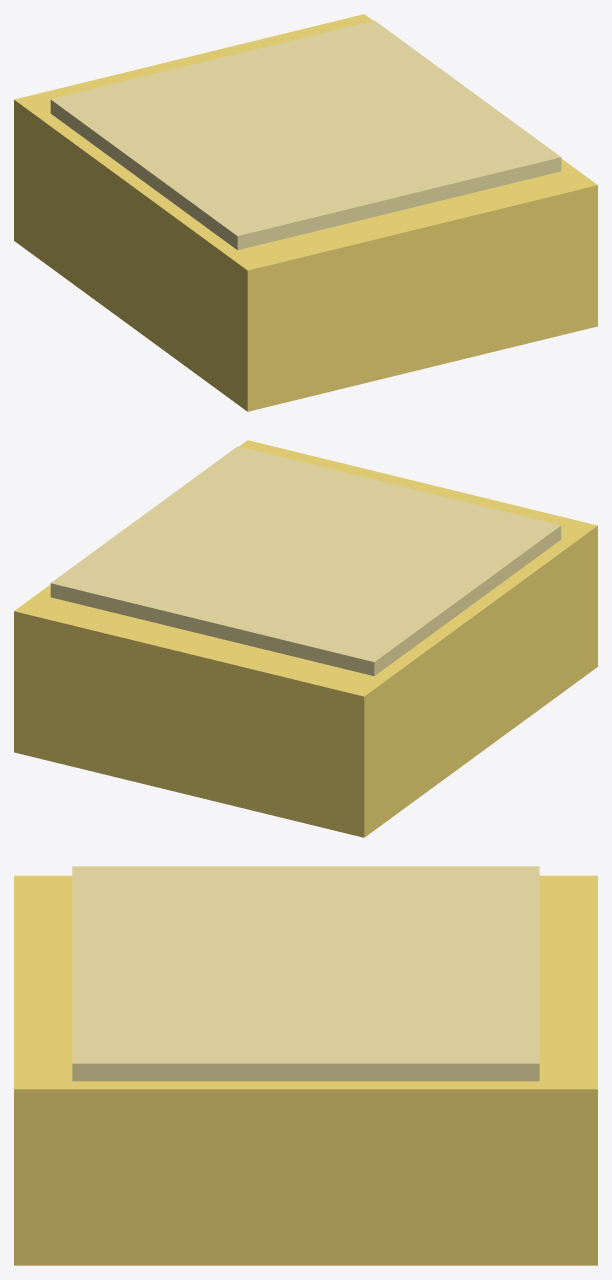
The model's file is Prop_Pet_AMF_Bowl_V8.glb.
3 renders of one model, top to bottom at view 1: azimuth 30°, elevation 25°; view 2: azimuth 150°, elevation 25°; view 3: azimuth 270°, elevation 25°, orthographic. The views are drawn at different scales.
Visible parts, largest first — view 1: Prop_Pet_AMF_Bowl_V8; view 2: Prop_Pet_AMF_Bowl_V8; view 3: Prop_Pet_AMF_Bowl_V8.
Part boxes in pixels (box(x1,y1,x2,y2)): Prop_Pet_AMF_Bowl_V8: box(14, 14, 597, 411); Prop_Pet_AMF_Bowl_V8: box(14, 440, 597, 837); Prop_Pet_AMF_Bowl_V8: box(14, 866, 597, 1265).
Bounding box in the file's own units: 0.2596 × 0.11 × 0.3.
